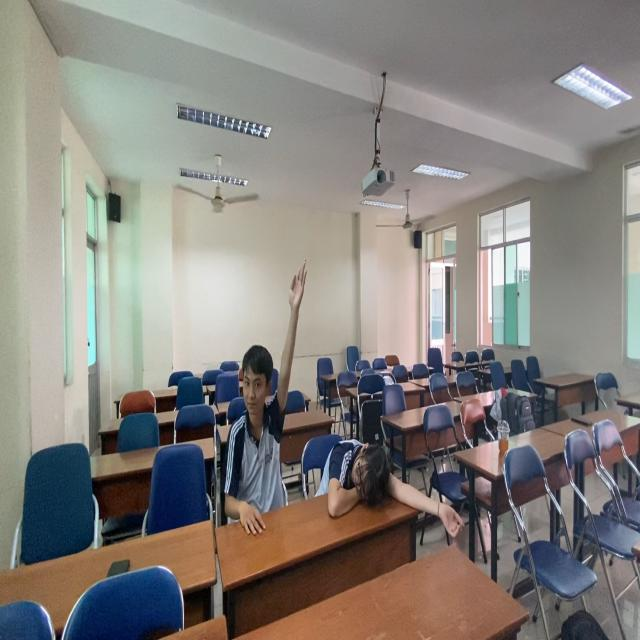raise_hand: (225, 259, 308, 516)
sleep: (324, 433, 463, 542)
